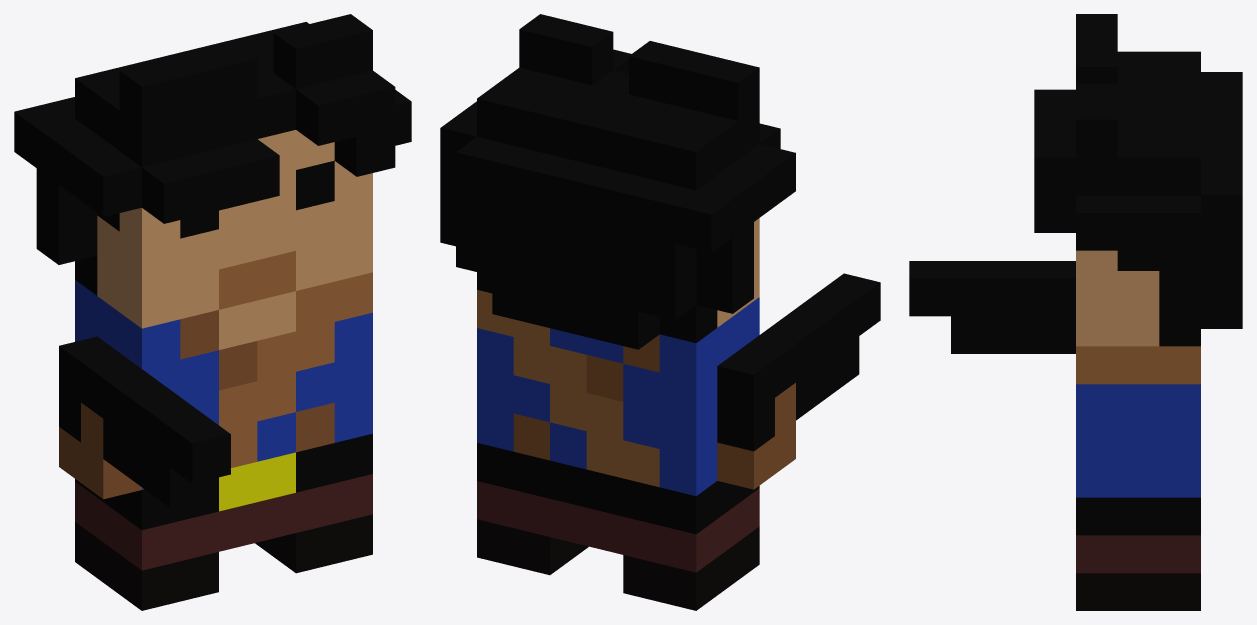
The model's file is protag.gltf.
3 views of the same model, side by side, from view 1: azimuth 30°, elevation 25°; view 2: azimuth 150°, elevation 25°; view 3: azimuth 270°, elevation 25° (orthographic). The views are drawn at different scales.
Parts seen in each view (by area): view 1: Layer.1; view 2: Layer.1; view 3: Layer.1.
Part boxes in pixels (x1=…): Layer.1: x1=14, y1=14, x2=411, y2=610; Layer.1: x1=440, y1=14, x2=880, y2=610; Layer.1: x1=909, y1=14, x2=1242, y2=610.
Size of the model in its own units: 8 by 13 by 8.
1 material, 1 textured.
